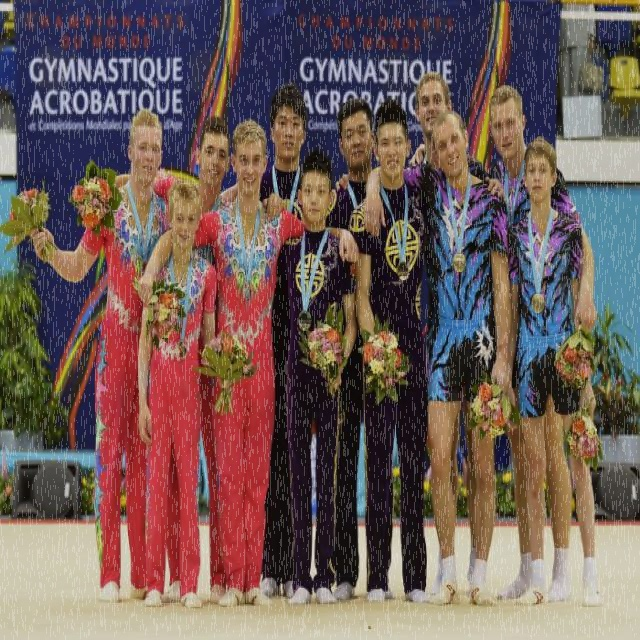pessoa: (137, 120, 359, 608), (334, 71, 507, 603), (347, 98, 508, 608), (360, 107, 512, 609), (26, 107, 173, 606), (486, 83, 598, 604), (498, 132, 619, 608), (134, 176, 236, 608), (274, 147, 360, 610), (324, 97, 396, 603), (257, 82, 311, 599), (180, 115, 230, 598)
